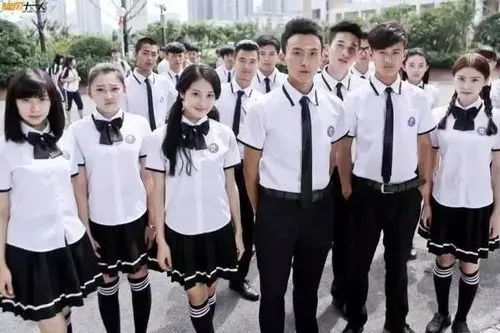withoutmask: (4, 67, 67, 142), (281, 19, 325, 89), (450, 46, 492, 111), (176, 61, 221, 119), (368, 20, 408, 79), (86, 66, 127, 114)
